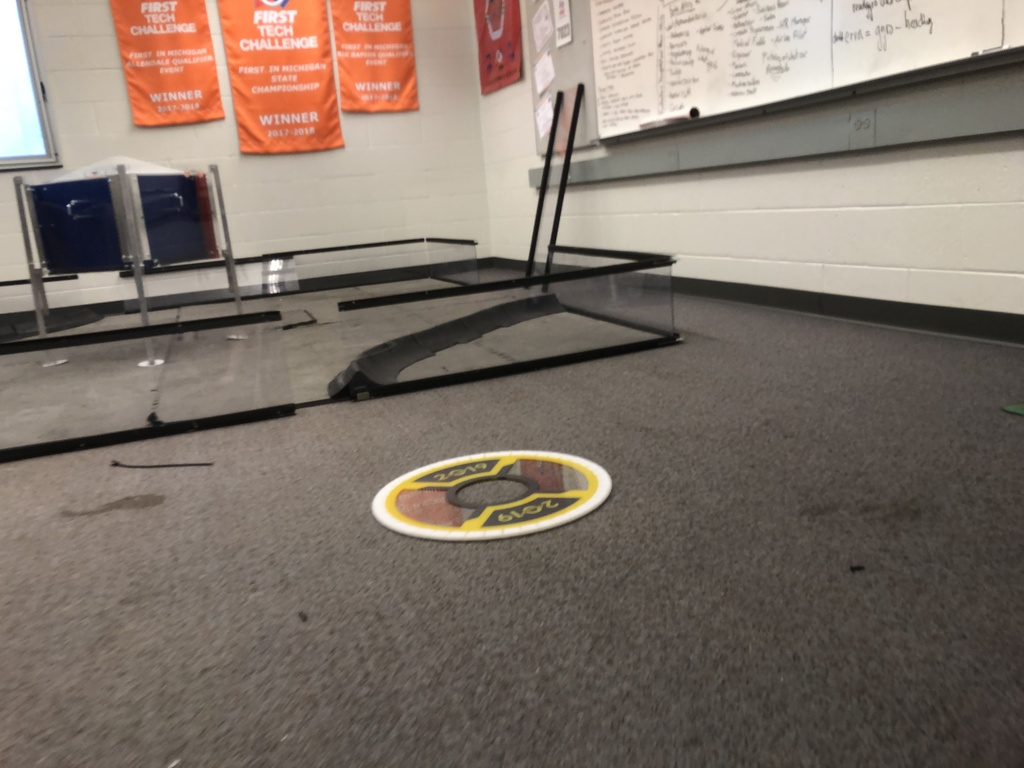hatch_panel: (356, 440, 622, 552)
